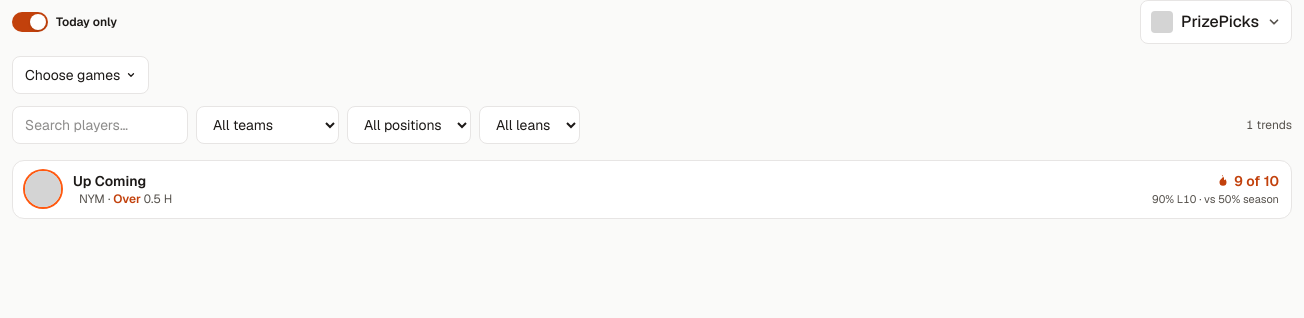
Test: SourcedTrends game picker › lets the user tap a started game back into scope
Click the button "Choose games": [81, 75] box [12,56,149,94]
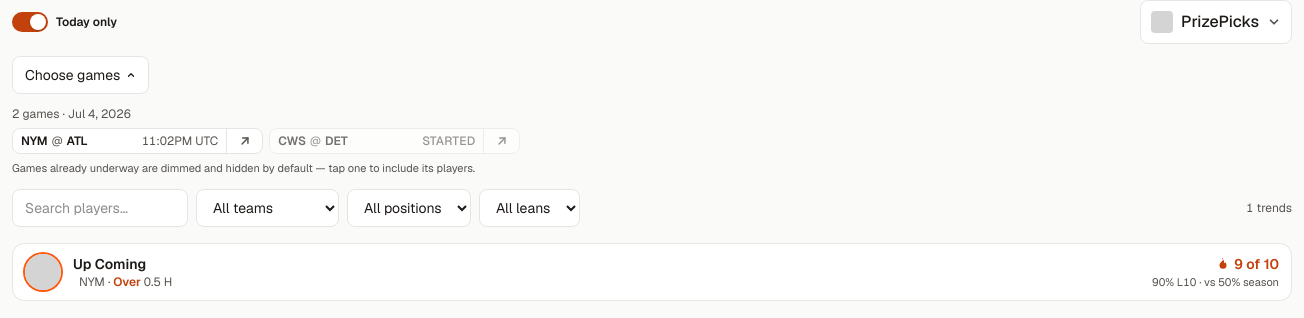
Note: The started matchup chip is selectable and re-includes its players.
Click the button "CWS @ DET Started": [377, 141] box [270,129,483,153]
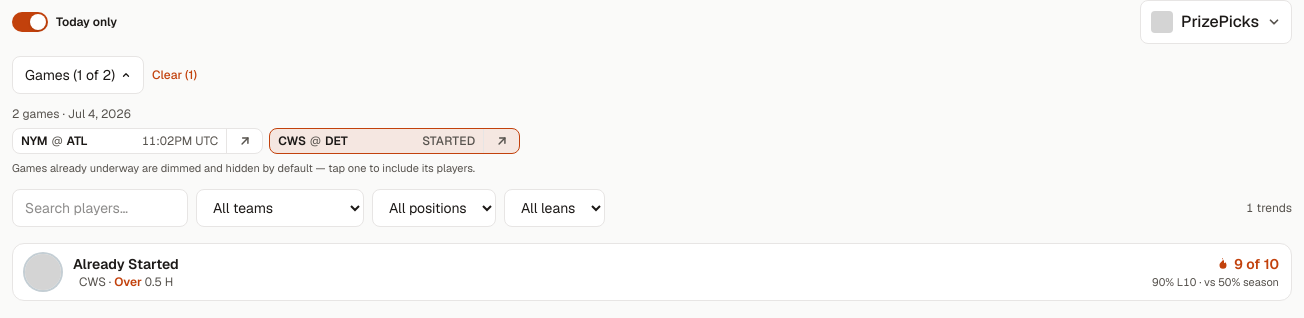
Result: the text "Already Started" is shown at [73,254,179,274]
Result: the text "Up Coming" is gone
